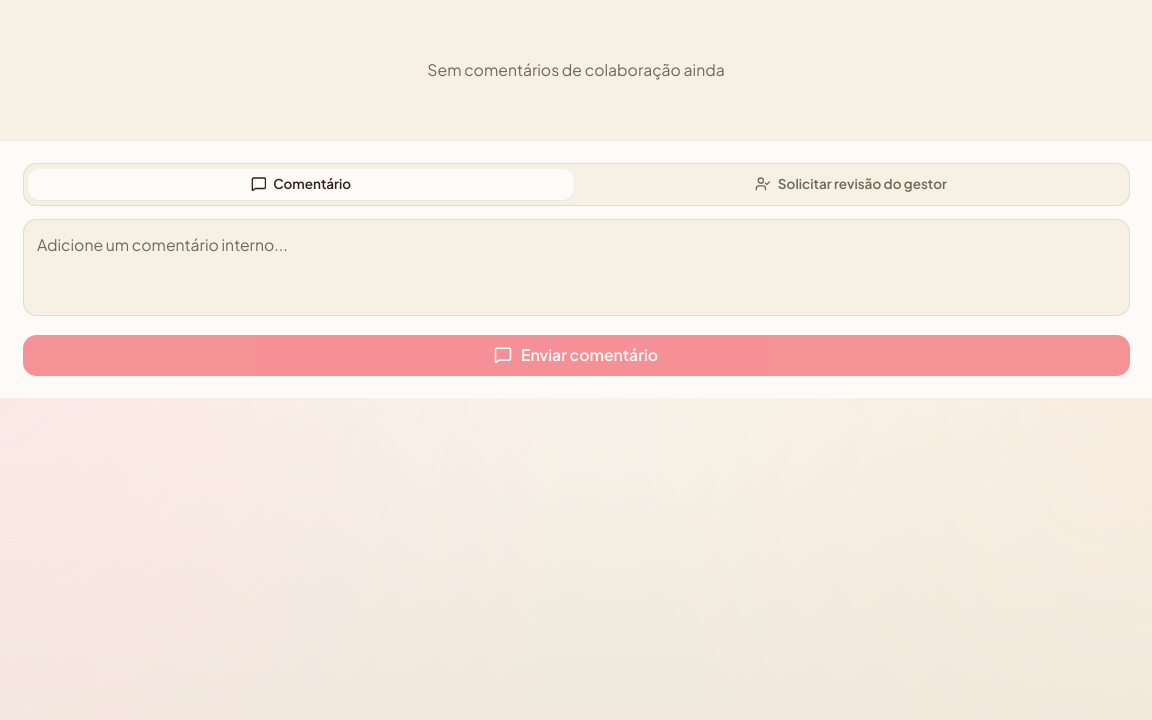
CollaborationTab › sem gestores disponíveis, mostra aviso de solicitação genérica
The width and height of the screenshot is (1152, 720).
Check: the text "Sem comentários de colaboração ainda" is shown, box [427,58,725,81]
Click the button "Solicitar revisão do gestor" at point(851, 184), box [578,168,1124,200]
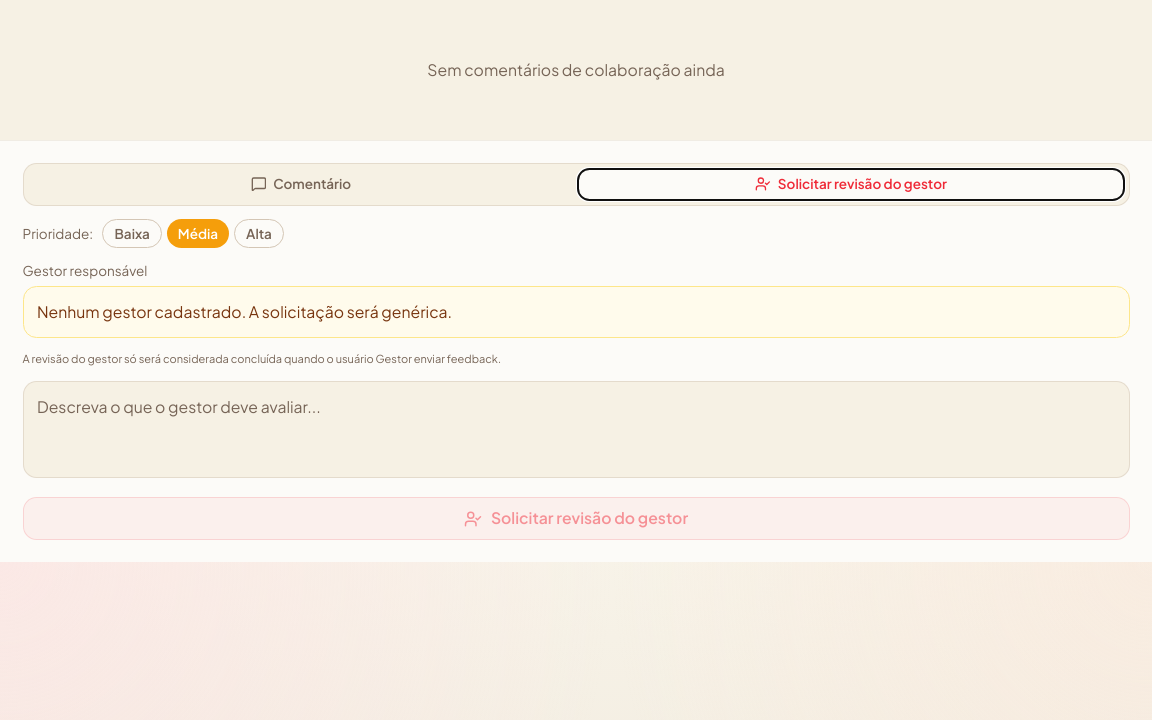
Check: the text "Nenhum gestor cadastrado. A solicitação será genérica." is shown, box [22,286,1130,338]
